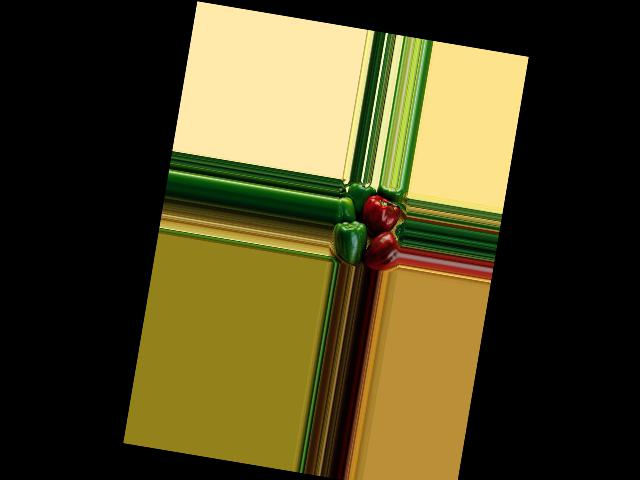bell_pepper: (364, 228, 402, 273)
